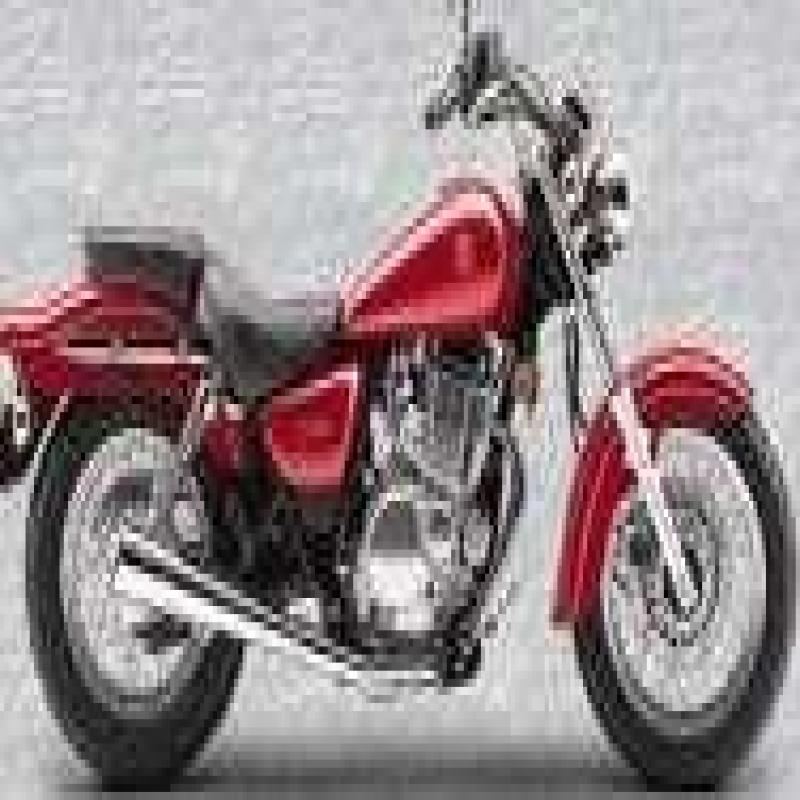bike: (3, 26, 800, 800)
